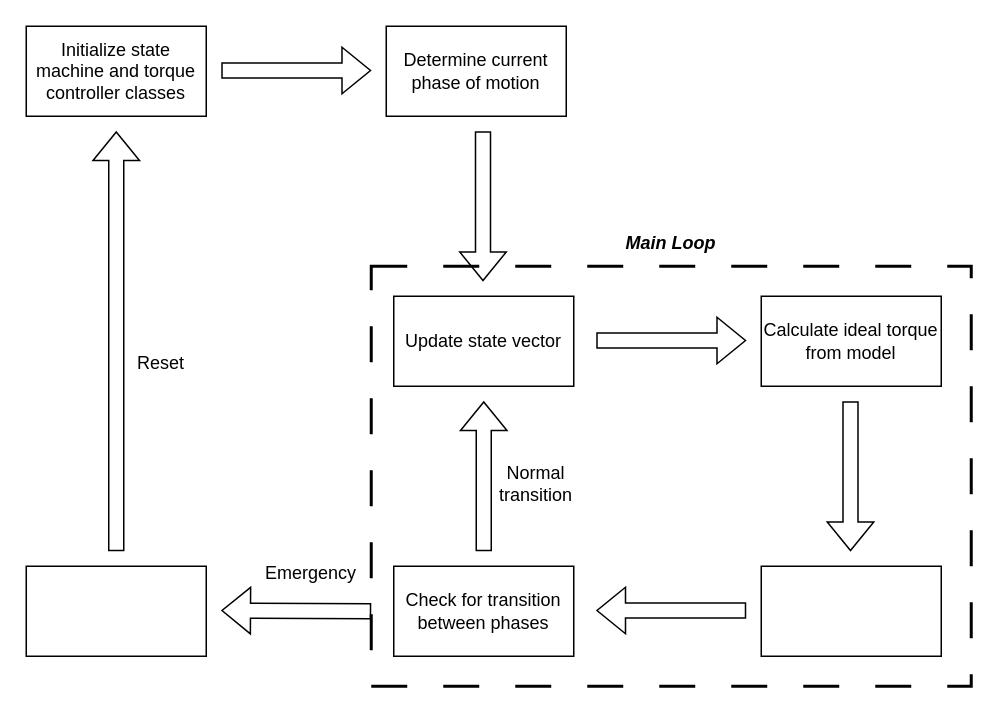
This 999x714 diagram has some shape labels left out. Here are the shapes that lost their labels. From the top down, the box of each, then its label:
(25, 565, 206, 656): Return to null state (turn off motor)
(760, 565, 941, 656): Drive motor
